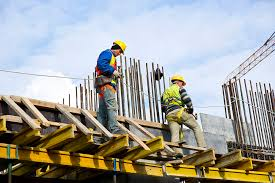hard hat: (112, 39, 127, 55), (171, 73, 186, 86)
high-vis: (94, 51, 120, 87), (163, 84, 184, 108)
